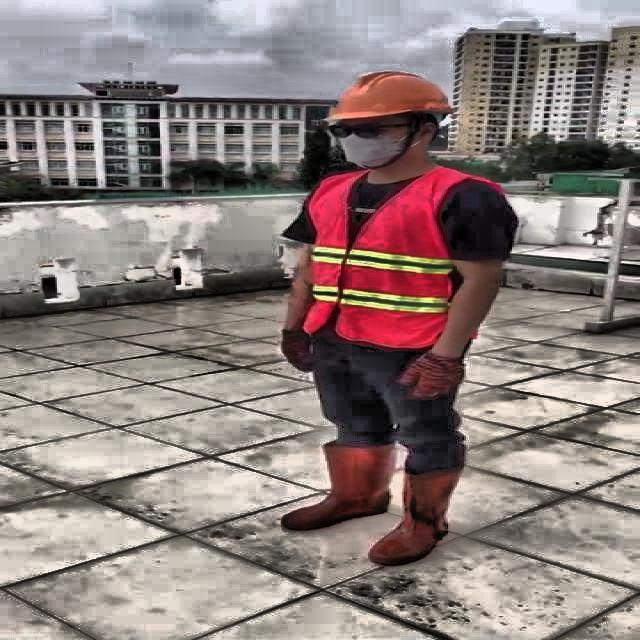safety_helmet: (318, 68, 454, 122)
safety_jacket: (303, 169, 477, 349)
